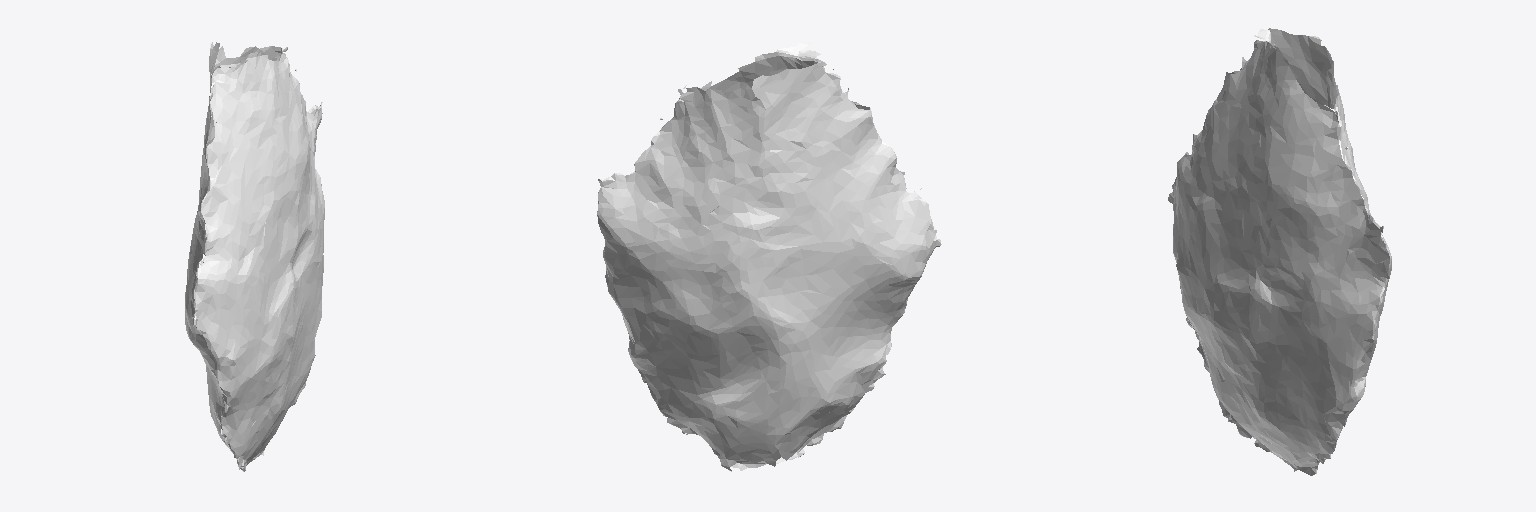
The model's file is workshopreal.obj.
The picture shows the model from 3 angles: view 1: azimuth 30°, elevation 25°; view 2: azimuth 150°, elevation 25°; view 3: azimuth 270°, elevation 25°; orthographic projection.
Visible parts, largest first — view 1: workshop; view 2: workshop; view 3: workshop.
Part boxes in pixels (left/top/right/bottom): workshop: left=185, top=42, right=324, bottom=471; workshop: left=597, top=42, right=941, bottom=471; workshop: left=1168, top=28, right=1391, bottom=475.
Bounding box in the file's own units: 0.3323 × 0.5626 × 0.2732.